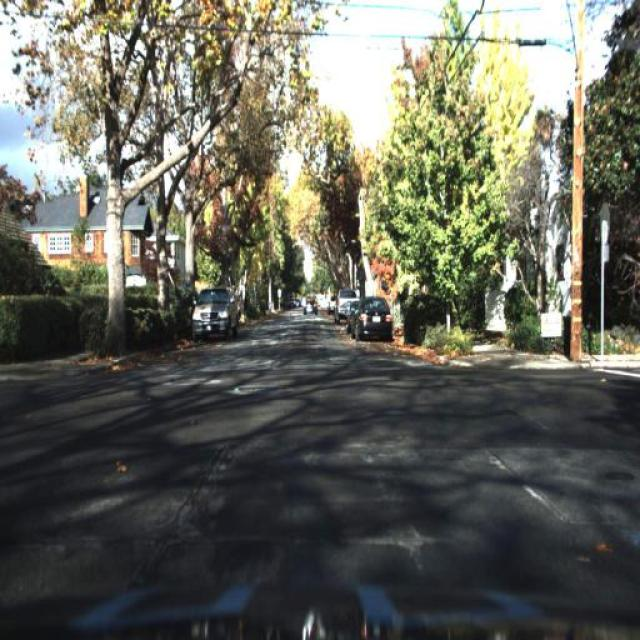car: (190, 288, 235, 336), (347, 296, 394, 338), (332, 292, 352, 326), (303, 292, 322, 317)
